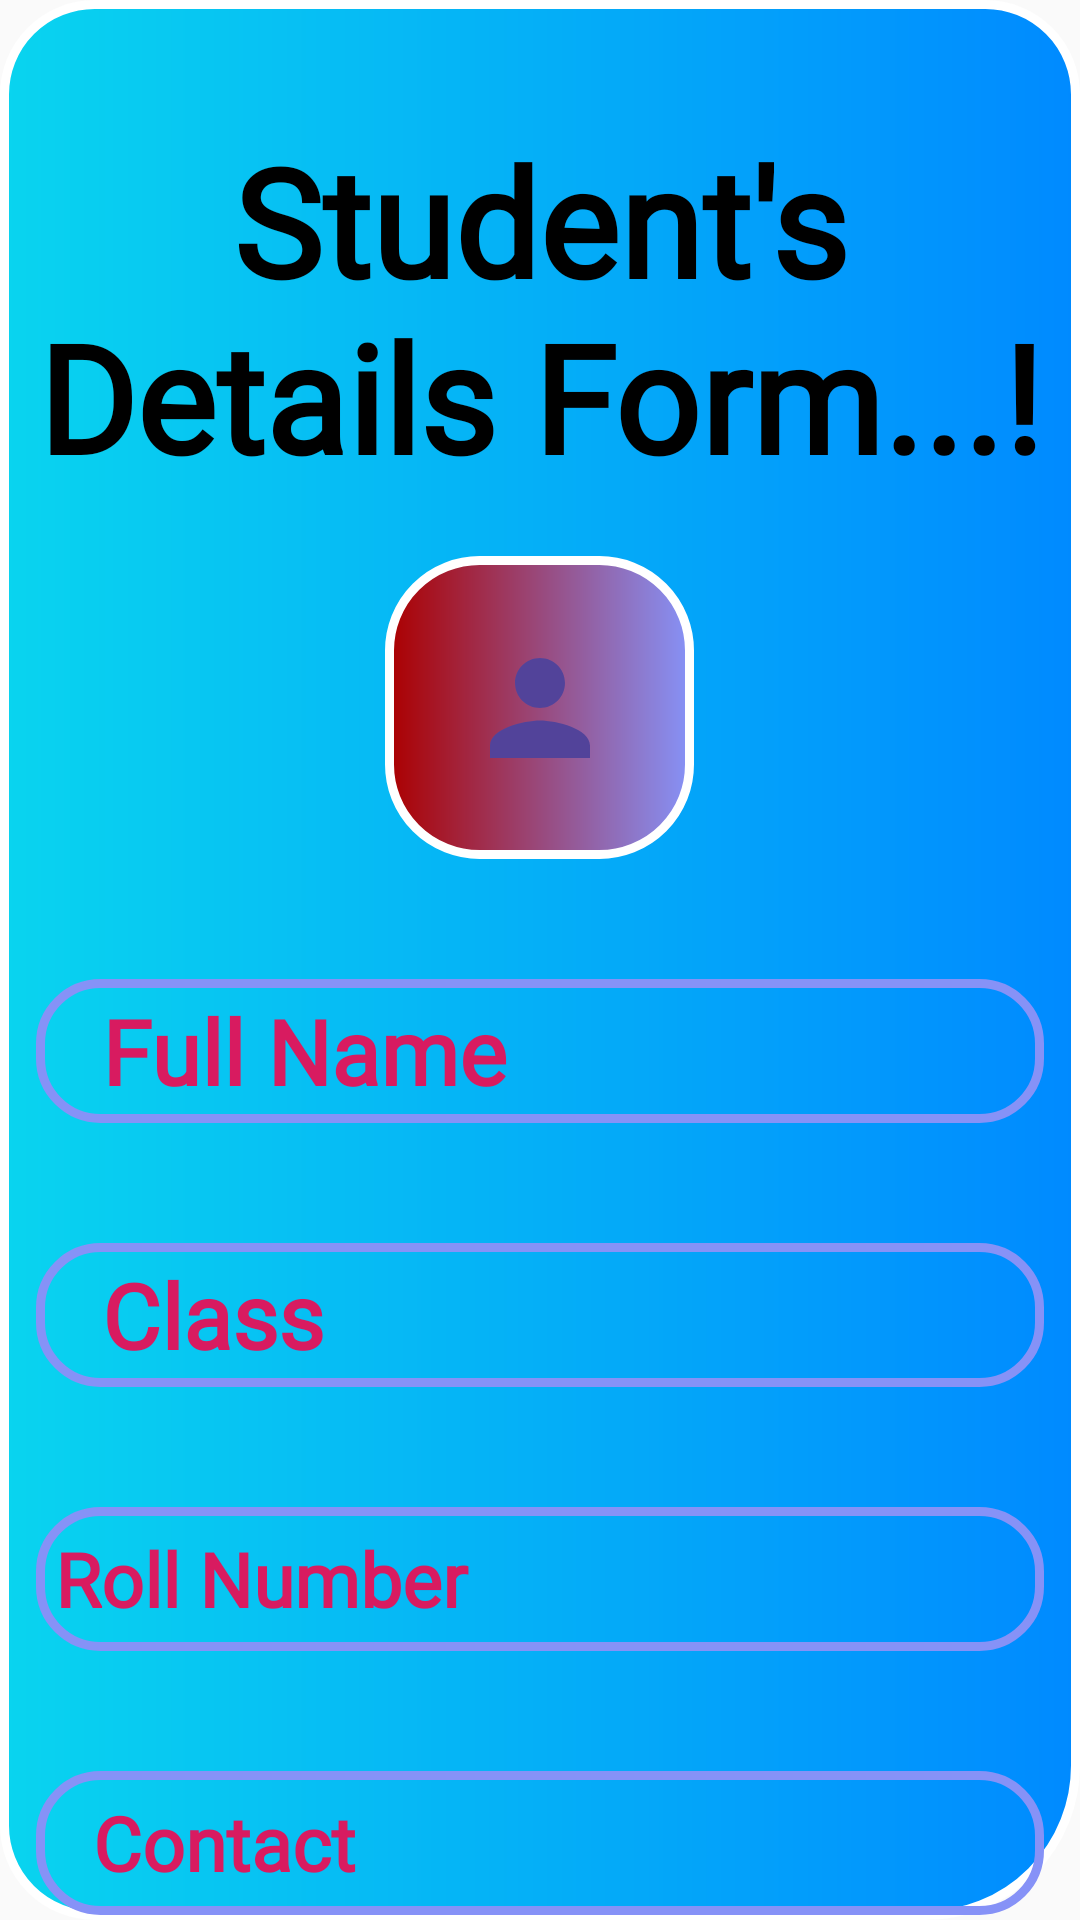

Locate icon controls on the screen. Image size 1080*1920, boxes as (x1, y1, x2, y2).
person: (385, 556, 694, 859)
